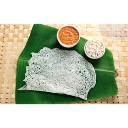dosa: (23, 48, 97, 99)
